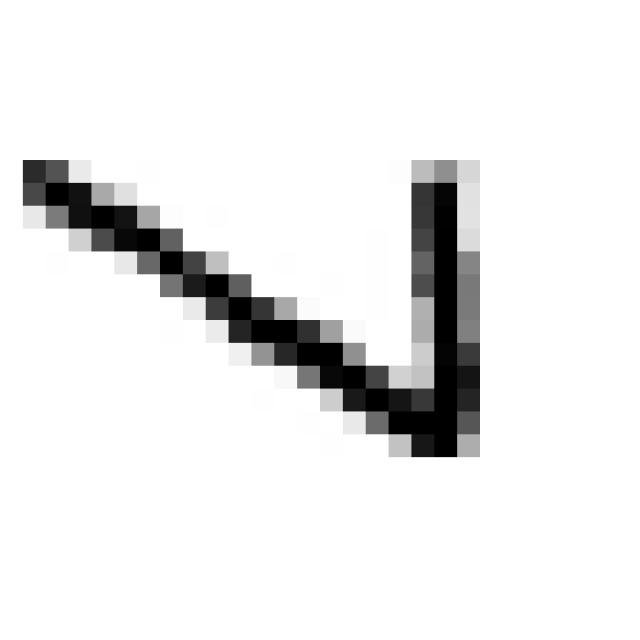7 -seven-: (6, 139, 502, 480)
